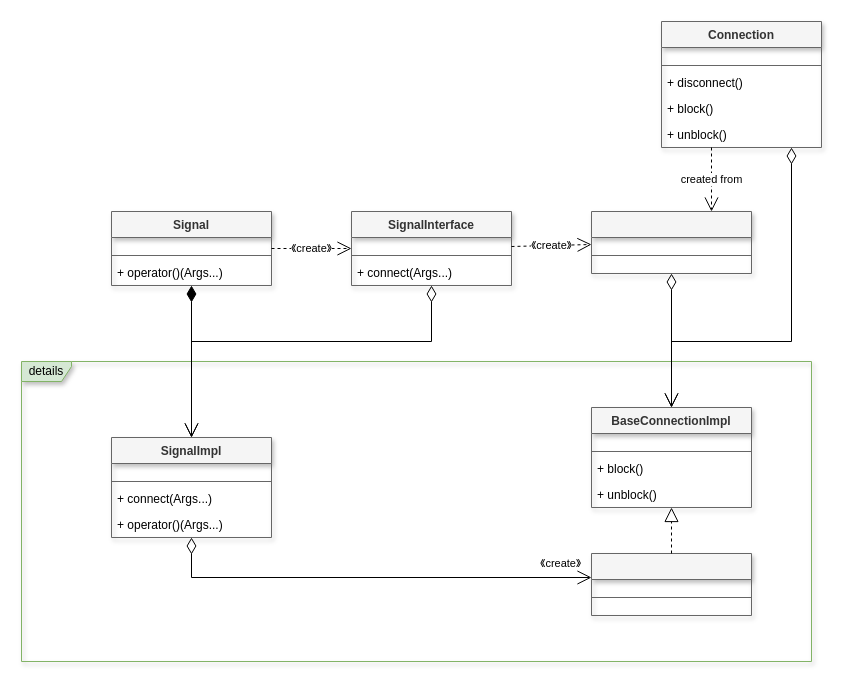
The diagram is 845 pixels wide and 686 high, and some of its shapes have lost their labels. Here are the shapes that lost their labels. From the top down, the centre of each, then its label:
the point at 672,243: RawConnection
the point at 672,585: ConnectionImpl
